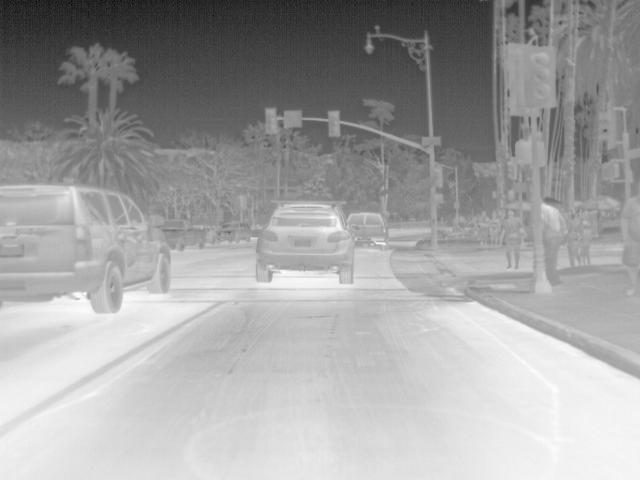car: (0, 180, 175, 316), (252, 200, 355, 285), (347, 211, 391, 248), (160, 218, 207, 252), (218, 219, 253, 245)
person: (539, 203, 569, 284), (618, 194, 638, 295), (501, 210, 523, 271), (477, 212, 491, 246)
